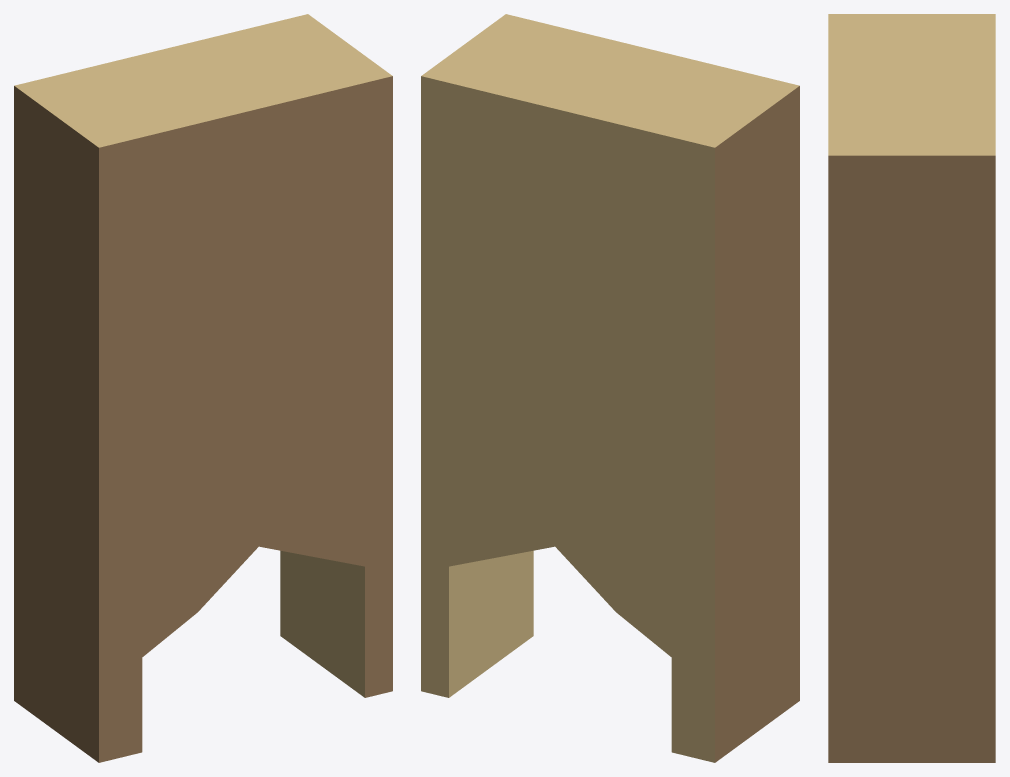
The model's file is BrokenWall.fbx.
3 views of the same model, side by side, from view 1: azimuth 30°, elevation 25°; view 2: azimuth 150°, elevation 25°; view 3: azimuth 270°, elevation 25° (orthographic).
Visible parts, largest first — view 1: Simple wall.001; view 2: Simple wall.001; view 3: Simple wall.001.
Boxes of the visible parts, <box> form: Simple wall.001: <box>14,14,392,762</box>; Simple wall.001: <box>421,14,799,762</box>; Simple wall.001: <box>828,14,995,762</box>.
Bounding box in the file's own units: 100 × 200 × 400.
